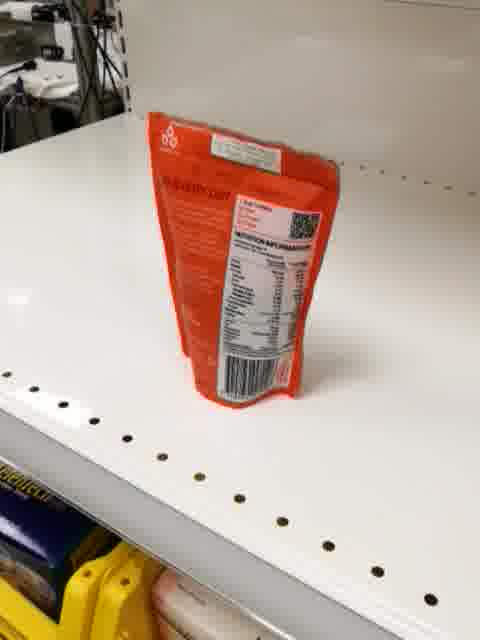whitechia: (144, 109, 347, 413)
